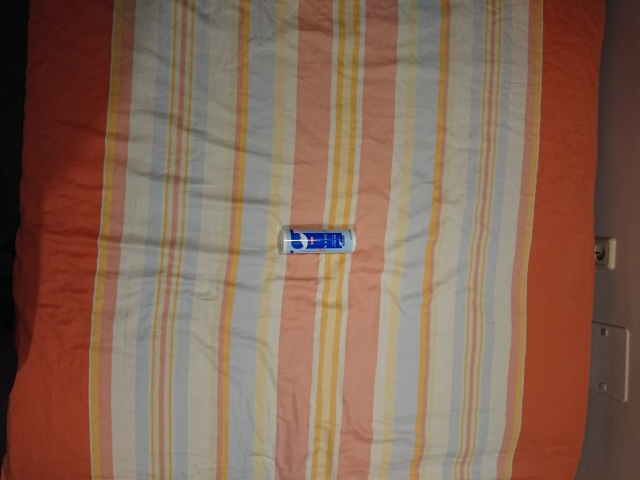Solana Pag Fine Sea Salt 250g: (279, 226, 358, 255)
